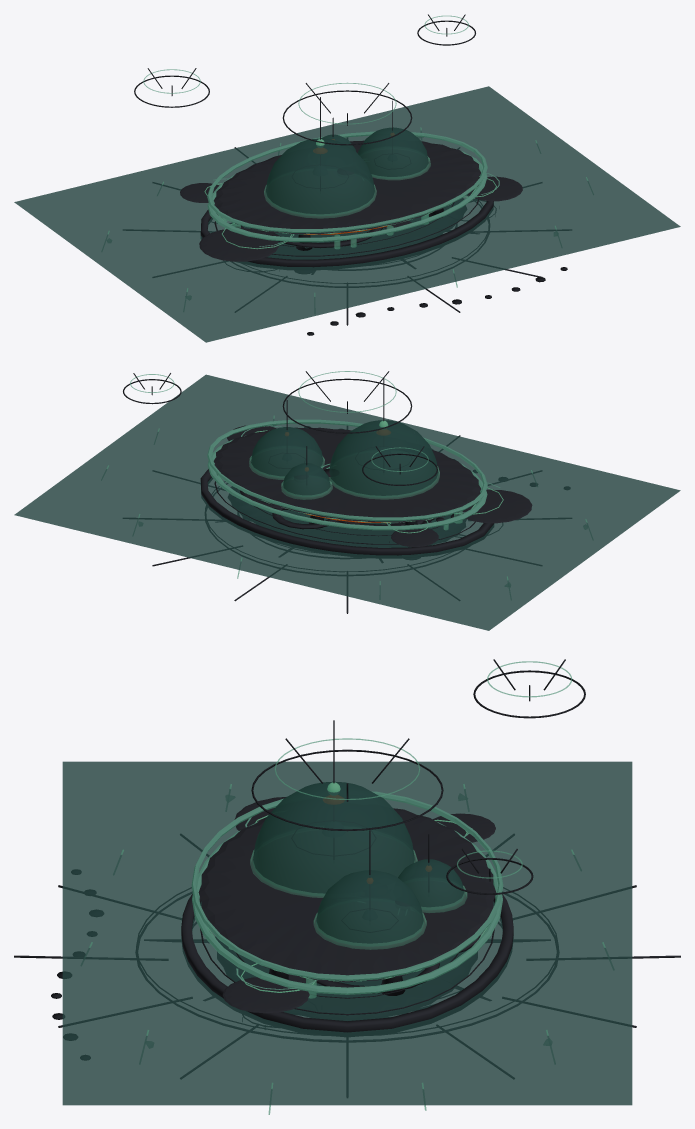
File: yoga-ext.glb
3 renders of one model, top to bottom at view 1: azimuth 30°, elevation 25°; view 2: azimuth 150°, elevation 25°; view 3: azimuth 270°, elevation 25°, orthographic. The views are drawn at different scales.
Visible parts, largest first — view 1: reflecting_lake, main_platform, dome_large, platform_lip, dome_medium, platform_rim_top, platform_underside, garden_platform_01, yoga_s73_detail_polish_mesh, platform_rim, yoga_s73_base_polish_mesh, garden_platform_02 (+4 smaller); view 2: reflecting_lake, main_platform, dome_large, platform_lip, dome_medium, platform_rim_top, platform_underside, platform_rim, yoga_s73_detail_polish_mesh, garden_platform_01, dome_small, yoga_s73_base_polish_mesh (+3 smaller); view 3: reflecting_lake, main_platform, dome_large, platform_lip, dome_medium, platform_rim_top, platform_underside, yoga_s73_detail_polish_mesh, platform_rim, yoga_s73_base_polish_mesh, dome_small, garden_platform_02 (+3 smaller).
Boxes of the visible parts, left/top/right/bottom form: reflecting_lake: left=14, top=86, right=680, bottom=342; main_platform: left=213, top=140, right=480, bottom=234; dome_large: left=265, top=138, right=374, bottom=216; platform_lip: left=200, top=177, right=493, bottom=269; dome_medium: left=357, top=127, right=428, bottom=178; platform_rim_top: left=207, top=131, right=487, bottom=232; platform_underside: left=243, top=198, right=466, bottom=258; garden_platform_01: left=199, top=228, right=278, bottom=261; yoga_s73_detail_polish_mesh: left=134, top=14, right=567, bottom=335; platform_rim: left=207, top=147, right=487, bottom=242; yoga_s73_base_polish_mesh: left=126, top=138, right=568, bottom=325; garden_platform_02: left=467, top=176, right=522, bottom=201; reflecting_lake: left=14, top=374, right=680, bottom=630; main_platform: left=213, top=427, right=481, bottom=522; dome_large: left=329, top=420, right=438, bottom=497; platform_lip: left=200, top=464, right=494, bottom=557; dome_medium: left=250, top=427, right=323, bottom=478; platform_rim_top: left=207, top=419, right=487, bottom=521; platform_underside: left=228, top=487, right=465, bottom=547; platform_rim: left=207, top=435, right=487, bottom=530; yoga_s73_detail_polish_mesh: left=123, top=371, right=569, bottom=571; garden_platform_01: left=457, top=489, right=532, bottom=523; dome_small: left=283, top=463, right=330, bottom=497; yoga_s73_base_polish_mesh: left=123, top=426, right=571, bottom=613; reflecting_lake: left=62, top=761, right=632, bottom=1105; main_platform: left=198, top=808, right=496, bottom=982; dome_large: left=252, top=781, right=414, bottom=896; platform_lip: left=181, top=894, right=513, bottom=1036; dome_medium: left=316, top=870, right=424, bottom=946; platform_rim_top: left=191, top=791, right=503, bottom=981; platform_underside: left=216, top=938, right=477, bottom=1020; yoga_s73_detail_polish_mesh: left=51, top=659, right=585, bottom=1059; platform_rim: left=192, top=821, right=502, bottom=994; yoga_s73_base_polish_mesh: left=14, top=834, right=680, bottom=1097; dome_small: left=398, top=859, right=464, bottom=910; garden_platform_02: left=222, top=977, right=309, bottom=1013.
Bounding box in the file's own units: 18 × 5.47 × 14.76.
